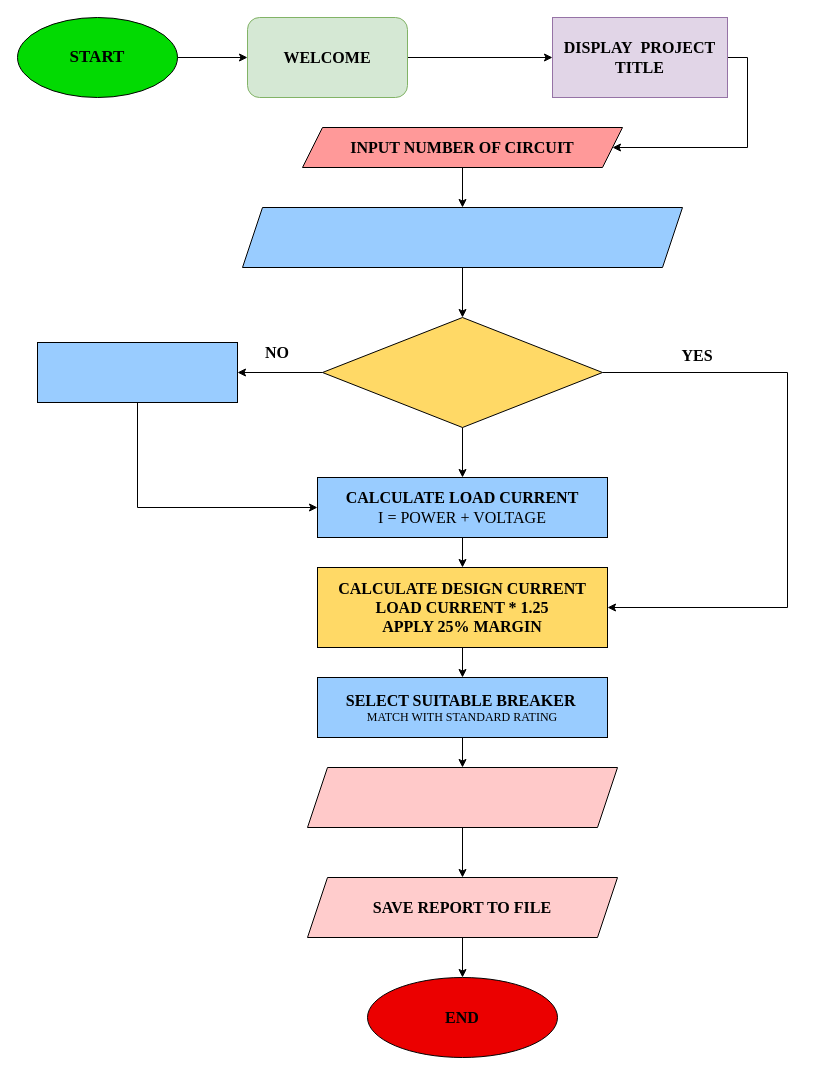
This 813x1075 diagram has some shape labels left out. The shapes that lost their labels are listed below. From the top down, each one's box as (x1, y1, x2, y2) in pixels, then its label:
(242, 206, 682, 268): ENTER CIRCUIT DETAILS( NAME, VOLTAGE AND POWER )
(36, 342, 238, 402): DISPLAY "INVALID INPUT" SKIP TO NEXT CIRCUIT
(322, 316, 602, 428): VALIDATE INPUT VOLTAGE > 0, POWER > 0
(306, 766, 618, 828): DISPLAY PROTECTION REPORT
